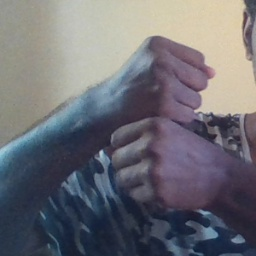G: (90, 31, 224, 214)
